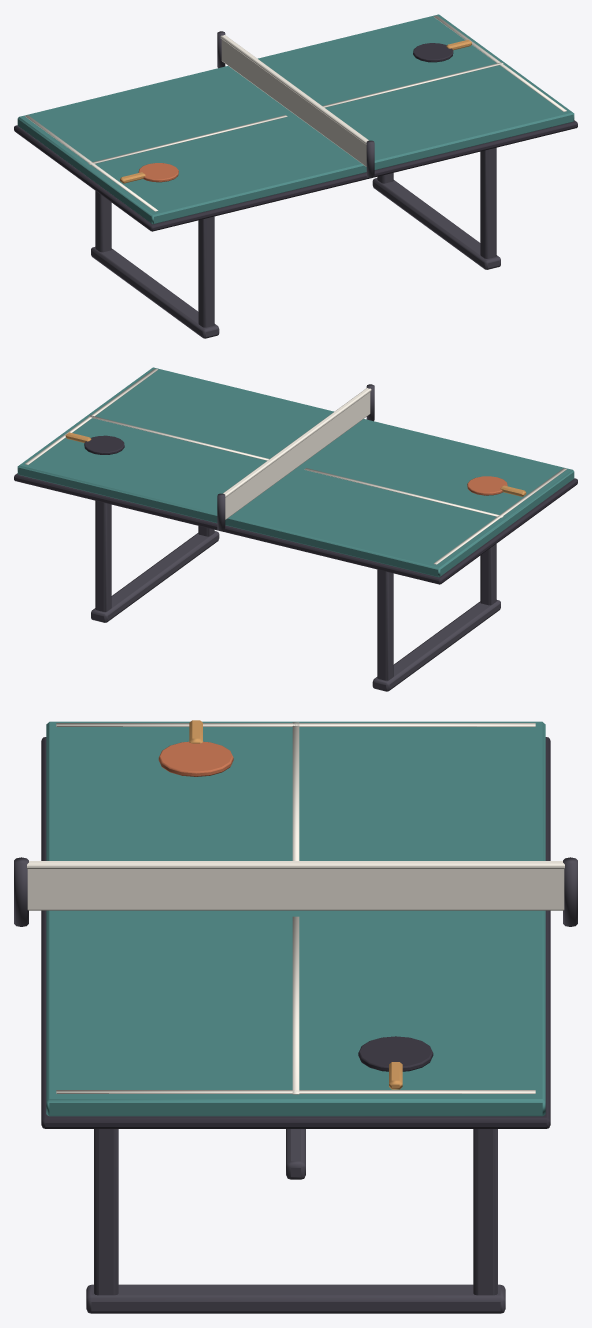
The model's file is ping_pong_table.glb.
3 views of the same model, one above another, from view 1: azimuth 30°, elevation 25°; view 2: azimuth 150°, elevation 25°; view 3: azimuth 270°, elevation 25° (orthographic). The views are drawn at different scales.
Visible parts, largest first — view 1: ping_pong_table, ping_pong_paddle1, ping_pong_paddle0; view 2: ping_pong_table, ping_pong_paddle1, ping_pong_paddle0; view 3: ping_pong_table, ping_pong_paddle0, ping_pong_paddle1.
Boxes of the visible parts, bbox=[...] form: ping_pong_table: bbox=[14, 14, 577, 338]; ping_pong_paddle1: bbox=[413, 39, 471, 62]; ping_pong_paddle0: bbox=[120, 163, 178, 183]; ping_pong_table: bbox=[14, 367, 577, 691]; ping_pong_paddle1: bbox=[65, 432, 124, 454]; ping_pong_paddle0: bbox=[467, 476, 526, 496]; ping_pong_table: bbox=[14, 721, 577, 1313]; ping_pong_paddle0: bbox=[158, 720, 233, 776]; ping_pong_paddle1: bbox=[358, 1036, 433, 1089].
Size of the model in its own units: 1.82 by 0.71 by 1.13.
